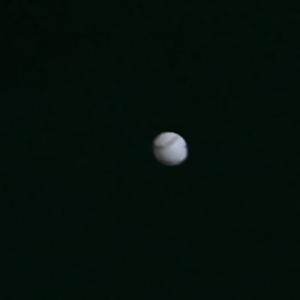ball: (152, 129, 191, 169)
